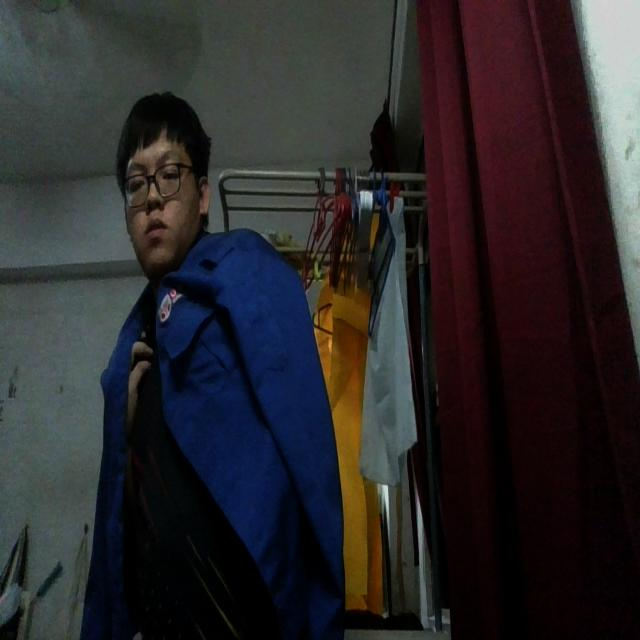person_without_labcoat: (82, 94, 344, 639)
